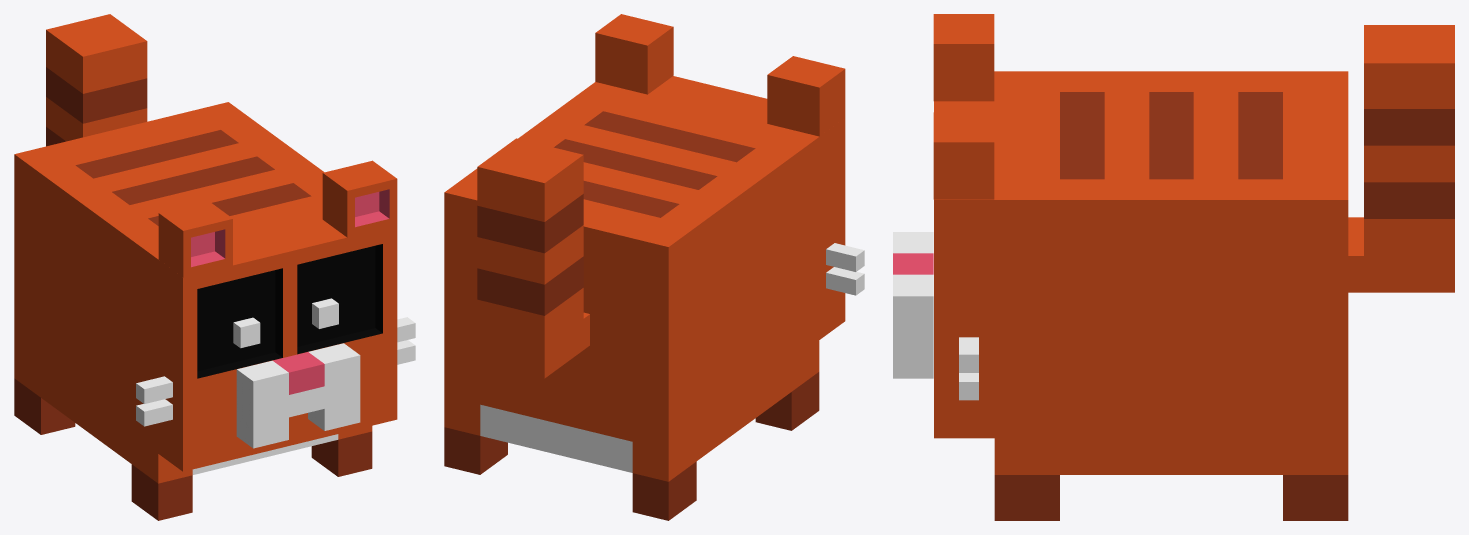
The model's file is cat.FBX.
3 renders of one model, left to right at view 1: azimuth 30°, elevation 25°; view 2: azimuth 150°, elevation 25°; view 3: azimuth 270°, elevation 25°, orthographic. The views are drawn at different scales.
Visible parts, largest first — view 1: cat_body, cat_tail, cat_nose, cat_ear_L, cat_ear_R, cat_whiskers, cat_paw_R, cat_paw_L, cat_leg_R, cat_eyes; view 2: cat_body, cat_tail, cat_ear_L, cat_ear_R, cat_leg_R, cat_leg_L, cat_paw_R, cat_whiskers; view 3: cat_body, cat_tail, cat_nose, cat_ear_L, cat_ear_R, cat_paw_L, cat_leg_L, cat_whiskers.
Boxes of the visible parts, left/top/right/bottom form: cat_body: left=14, top=102, right=397, bottom=483; cat_tail: left=46, top=14, right=147, bottom=146; cat_nose: left=236, top=343, right=360, bottom=448; cat_ear_L: left=322, top=160, right=397, bottom=237; cat_ear_R: left=158, top=200, right=232, bottom=277; cat_whiskers: left=136, top=317, right=415, bottom=426; cat_paw_R: left=131, top=464, right=192, bottom=520; cat_paw_L: left=311, top=431, right=372, bottom=476; cat_leg_R: left=14, top=378, right=75, bottom=434; cat_eyes: left=233, top=298, right=338, bottom=348; cat_body: left=444, top=76, right=845, bottom=481; cat_tail: left=477, top=138, right=589, bottom=378; cat_ear_L: left=595, top=14, right=673, bottom=94; cat_ear_R: left=767, top=56, right=845, bottom=136; cat_leg_R: left=632, top=461, right=696, bottom=520; cat_leg_L: left=444, top=427, right=507, bottom=474; cat_paw_R: left=755, top=372, right=819, bottom=430; cat_whiskers: left=826, top=243, right=864, bottom=295; cat_body: left=934, top=71, right=1348, bottom=474; cat_tail: left=1348, top=25, right=1454, bottom=292; cat_nose: left=893, top=232, right=933, bottom=378; cat_ear_L: left=933, top=112, right=994, bottom=199; cat_ear_R: left=933, top=14, right=994, bottom=101; cat_paw_L: left=994, top=475, right=1059, bottom=520; cat_leg_L: left=1283, top=475, right=1348, bottom=520; cat_whiskers: left=959, top=337, right=978, bottom=400.
Size of the model in its own units: 76 by 89.95 by 111.
